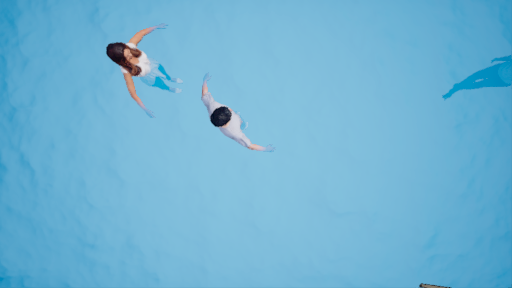person: (100, 21, 181, 122), (192, 78, 273, 156)
